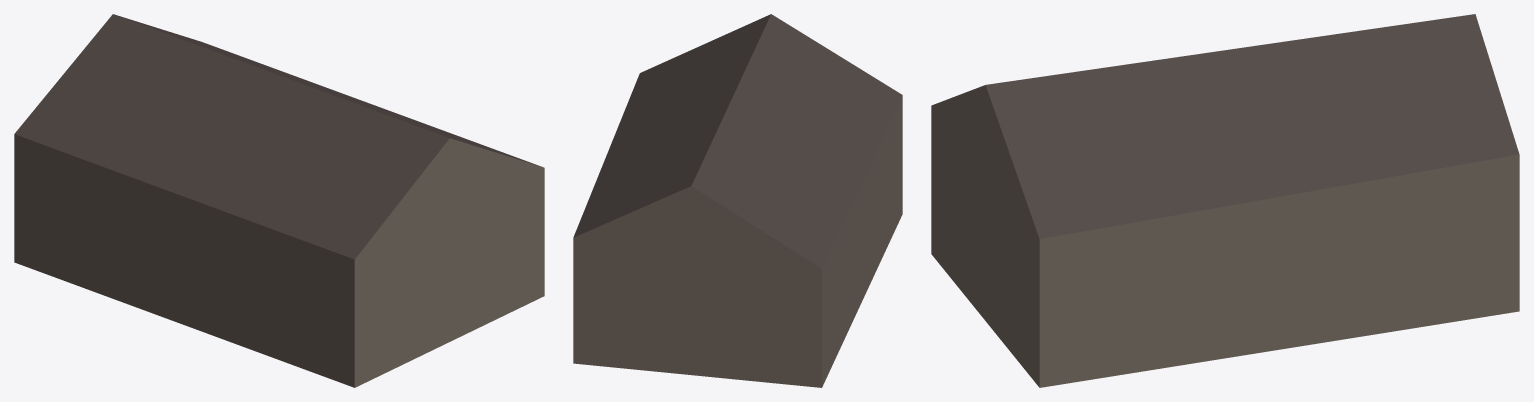
3 views of the same model, side by side, from view 1: azimuth 30°, elevation 25°; view 2: azimuth 150°, elevation 25°; view 3: azimuth 270°, elevation 25° (orthographic). The views are drawn at different scales.
Parts seen in each view (by area): view 1: HP-w1516161899; view 2: HP-w1516161899; view 3: HP-w1516161899.
Part boxes in pixels (left/top/right/bottom): HP-w1516161899: left=14, top=14, right=544, bottom=387; HP-w1516161899: left=573, top=14, right=902, bottom=387; HP-w1516161899: left=931, top=14, right=1519, bottom=387.
Bounding box in the file's own units: 17.78 × 9.53 × 21.51.
